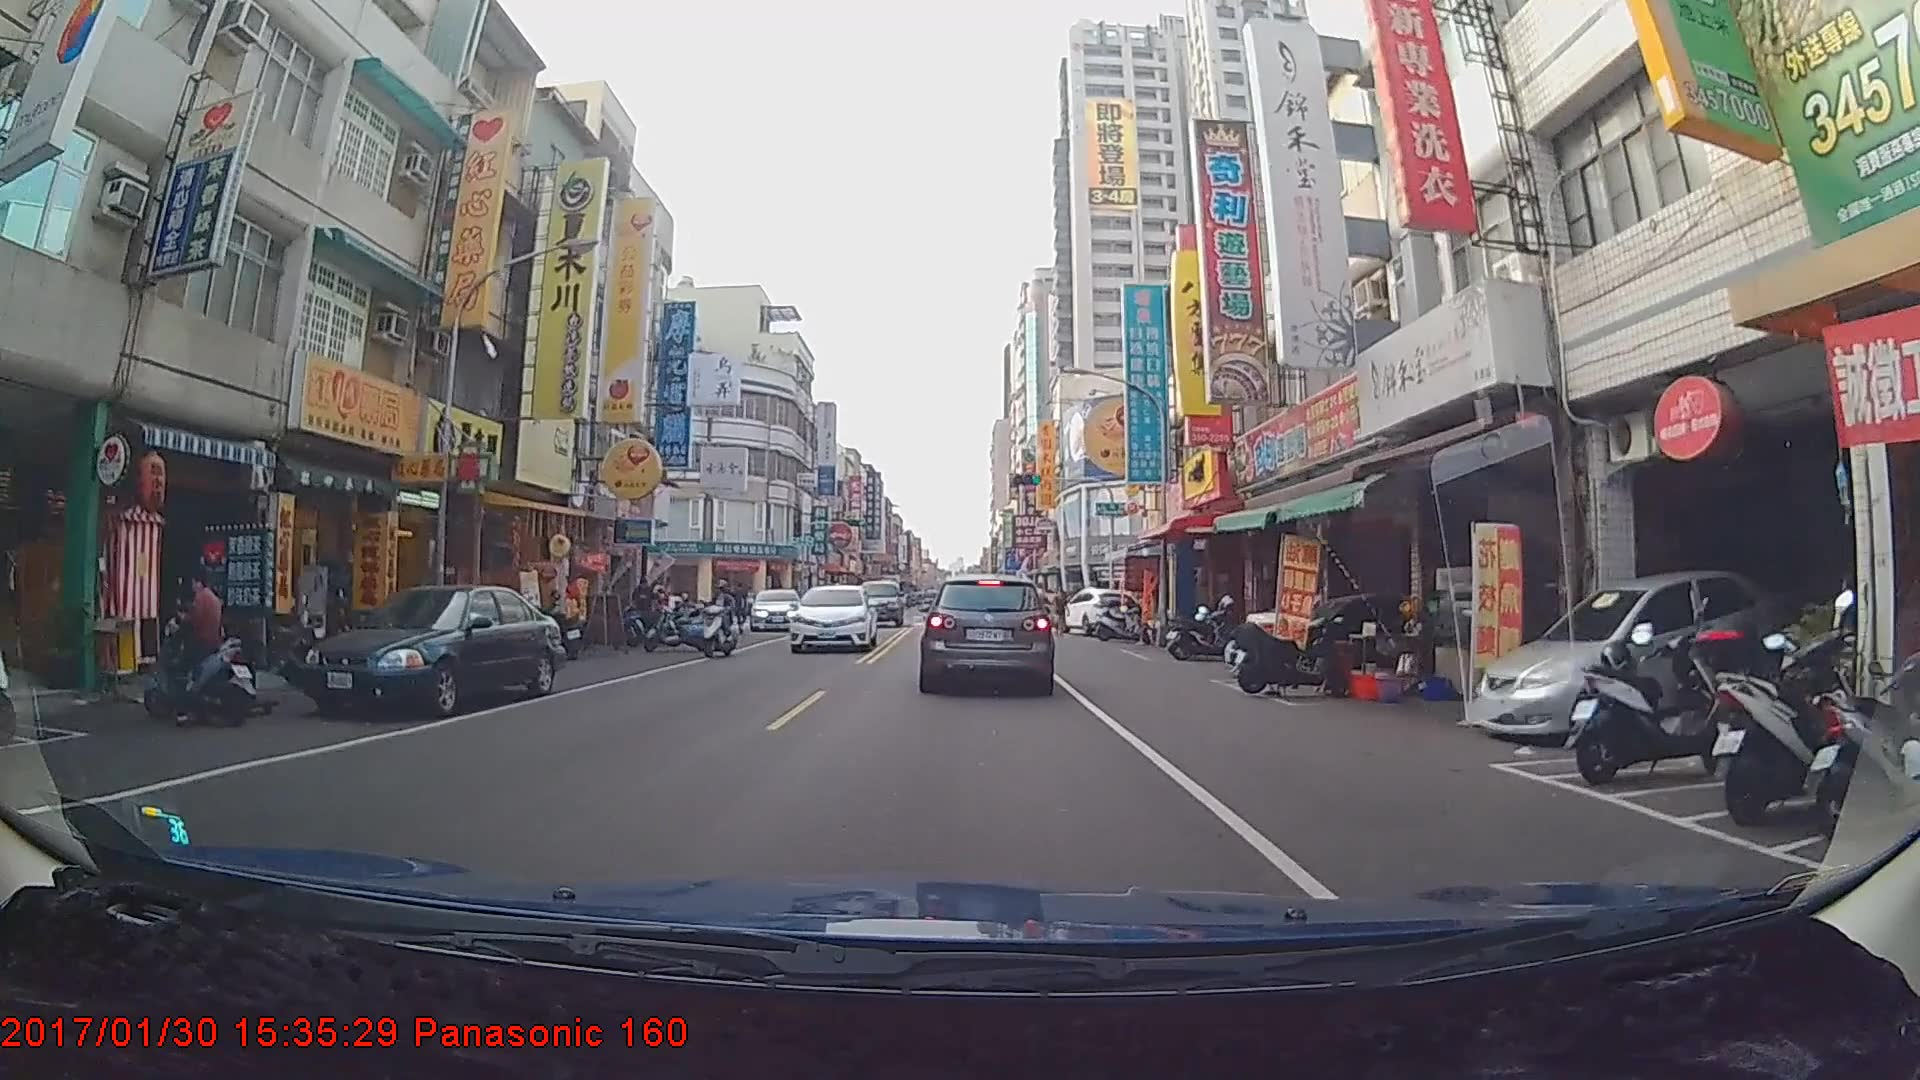pedestrian: (1050, 586, 1071, 636)
rider: (146, 562, 263, 730), (695, 581, 746, 663)
vehicle: (297, 582, 562, 715), (919, 573, 1055, 693), (787, 576, 875, 648), (1057, 583, 1145, 636), (852, 575, 904, 624), (750, 588, 801, 631)
